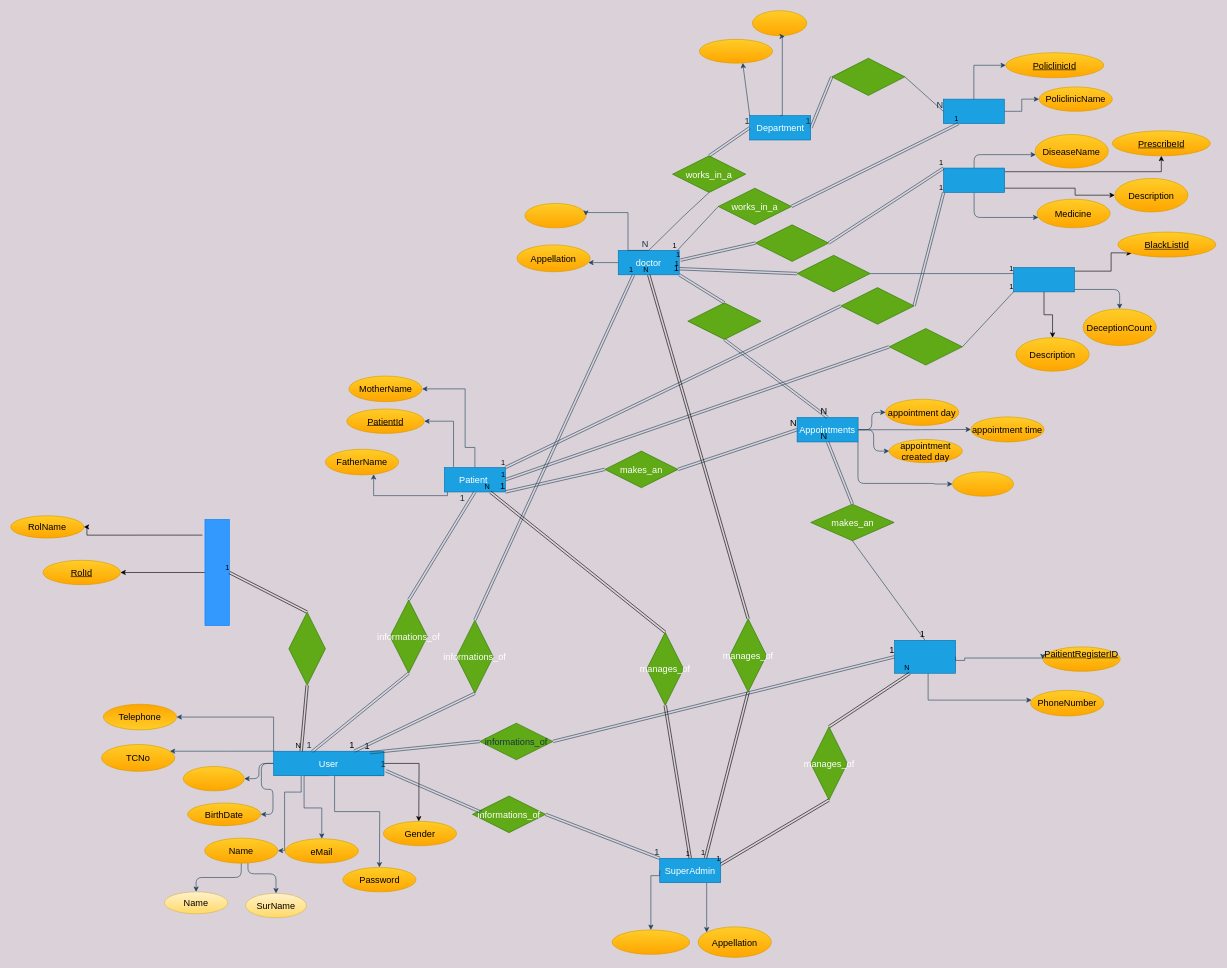
The diagram is 1227 pixels wide and 968 high, and some of its shapes have lost their labels. Here are the shapes that lost their labels. From the top down, the centre of each, then its label:
At (x=779, y=23): "DepartmanId".
At (x=736, y=51): "DepartmanName".
At (x=868, y=76): "has_more_than_one".
At (x=973, y=111): "Policlinic".
At (x=974, y=179): "Prescribe".
At (x=555, y=215): "DoktorId".
At (x=792, y=242): "writes".
At (x=833, y=273): "counter".
At (x=1044, y=279): "BlackList".
At (x=724, y=320): "look_at_mutiple".
At (x=877, y=305): "taken_by".
At (x=925, y=346): "count".
At (x=983, y=483): "appointmentsId".
At (x=216, y=572): "Rol".
At (x=306, y=648): "user_for".
At (x=925, y=656): "PatientRegister".
At (x=213, y=778): "UserId".
At (x=651, y=941): "SuperAdminId".
